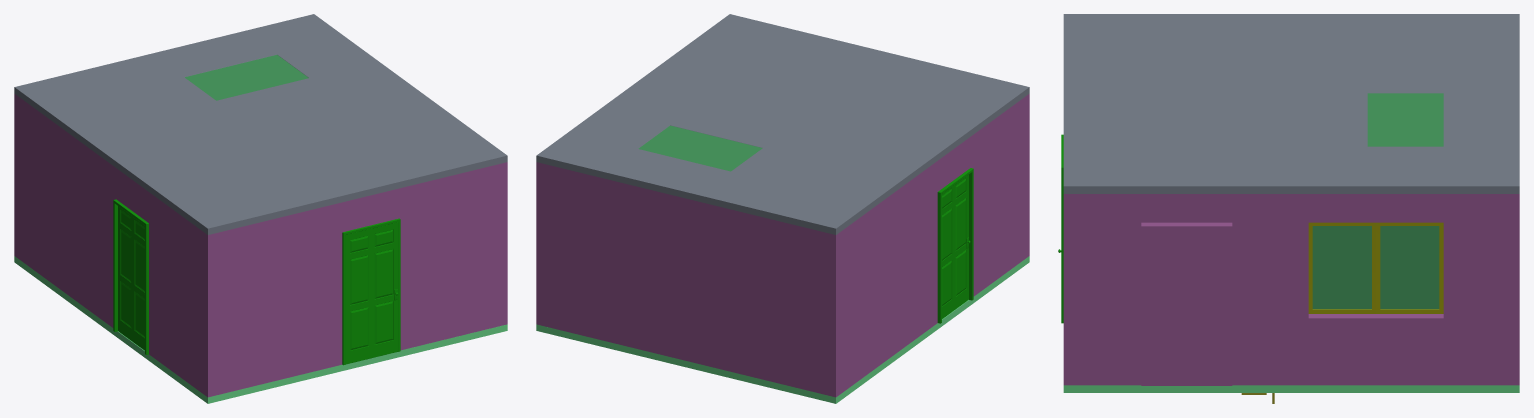
File: FloorPlan1_physics.fbx
The picture shows the model from 3 angles, left to right: view 1: azimuth 30°, elevation 25°; view 2: azimuth 150°, elevation 25°; view 3: azimuth 270°, elevation 25°; orthographic projection. The views are drawn at different scales.
Visible parts, largest first — view 1: StandardWallSize, Ceiling, StandardDoor1, Floor, StandardDoor1 (2), WindowGlass (2), StandardDoorFrame1 (2), StandardDoorFrame1; view 2: StandardWallSize, Ceiling, Floor, StandardDoor1 (2), WindowGlass (2), StandardDoorFrame1 (2); view 3: Ceiling, StandardWallSize, WindowGlass, WindowGlass (2), Floor, StandardWindow1 (3) (2), StandardWindow1 (3), StandardDoorFrame1.
Boxes of the visible parts, left/top/right/bottom form: StandardWallSize: left=14, top=94, right=507, bottom=397; Ceiling: left=14, top=14, right=507, bottom=234; StandardDoor1: left=346, top=222, right=397, bottom=364; Floor: left=14, top=256, right=507, bottom=403; StandardDoor1 (2): left=118, top=206, right=144, bottom=350; WindowGlass (2): left=185, top=55, right=308, bottom=100; StandardDoorFrame1 (2): left=113, top=199, right=148, bottom=354; StandardDoorFrame1: left=342, top=218, right=400, bottom=365; StandardWallSize: left=536, top=94, right=1029, bottom=397; Ceiling: left=536, top=14, right=1029, bottom=234; Floor: left=536, top=256, right=1029, bottom=403; StandardDoor1 (2): left=942, top=174, right=968, bottom=318; WindowGlass (2): left=638, top=125, right=762, bottom=171; StandardDoorFrame1 (2): left=937, top=168, right=973, bottom=323; Ceiling: left=1063, top=14, right=1519, bottom=193; StandardWallSize: left=1063, top=194, right=1519, bottom=385; WindowGlass: left=1312, top=226, right=1439, bottom=309; WindowGlass (2): left=1367, top=93, right=1443, bottom=146; Floor: left=1063, top=385, right=1519, bottom=392; StandardWindow1 (3) (2): left=1376, top=222, right=1443, bottom=313; StandardWindow1 (3): left=1308, top=222, right=1375, bottom=313; StandardDoorFrame1: left=1061, top=134, right=1063, bottom=323.
Bounding box in the file's own units: 498 × 298 × 546.
